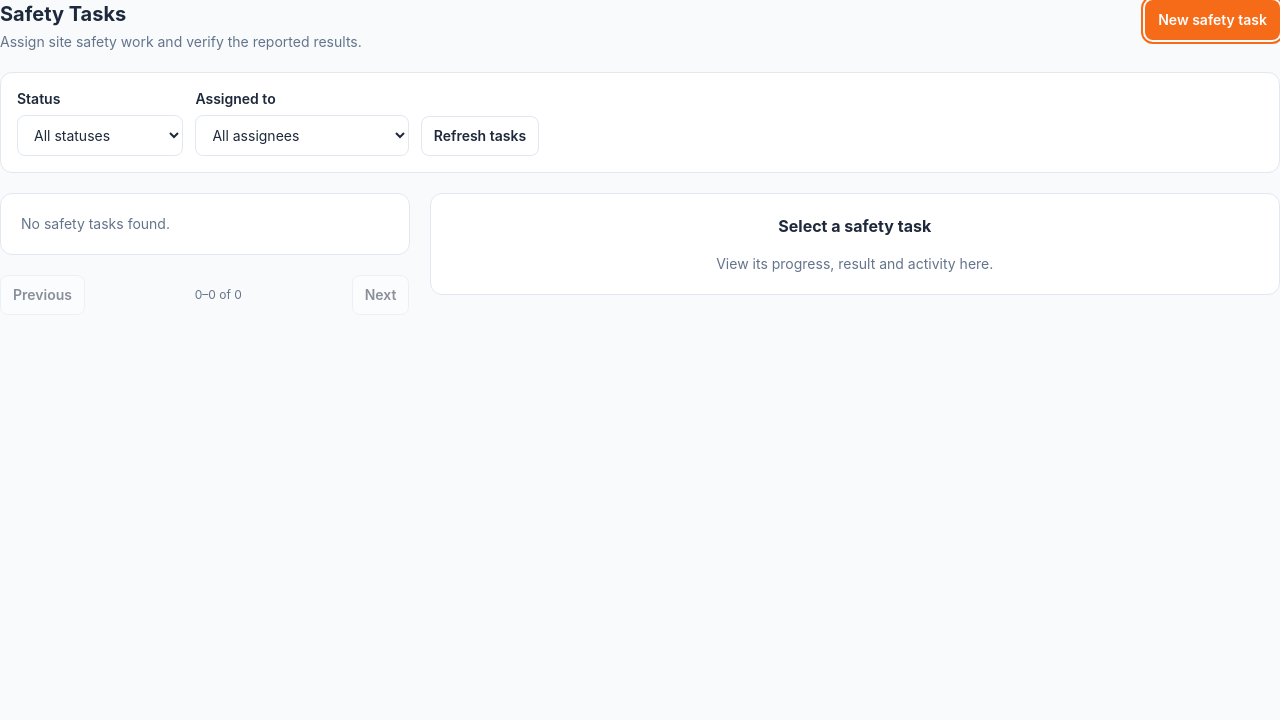
Test: Task creation opens on demand and Cancel returns focus without losing the list
Expected: the text "No safety tasks found." is shown, [0,193,410,255]
Expected: the field labelled "Task description" is not shown
Click the button "New safety task".
click(1213, 20)  # box [1145,0,1279,40]
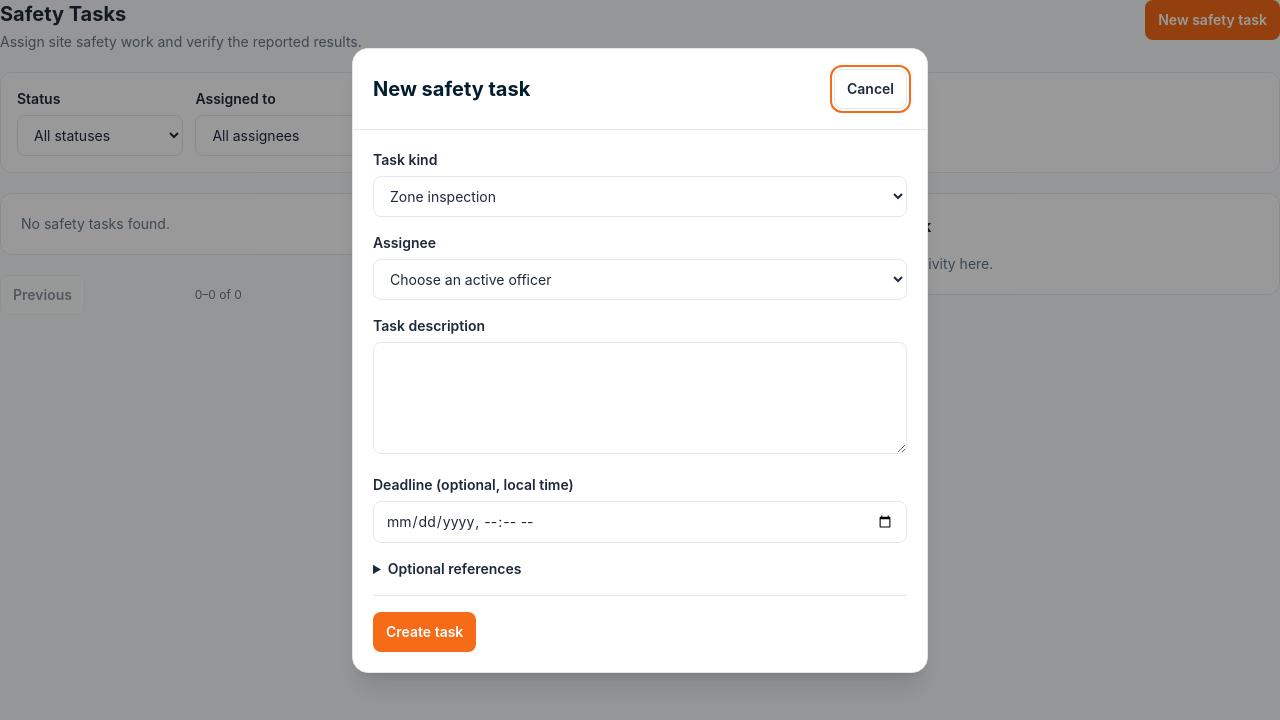
Result: the dialog "New safety task" is shown at [352,48,928,672]
Click the button "Cancel".
click(870, 88)  # box [834,68,907,108]
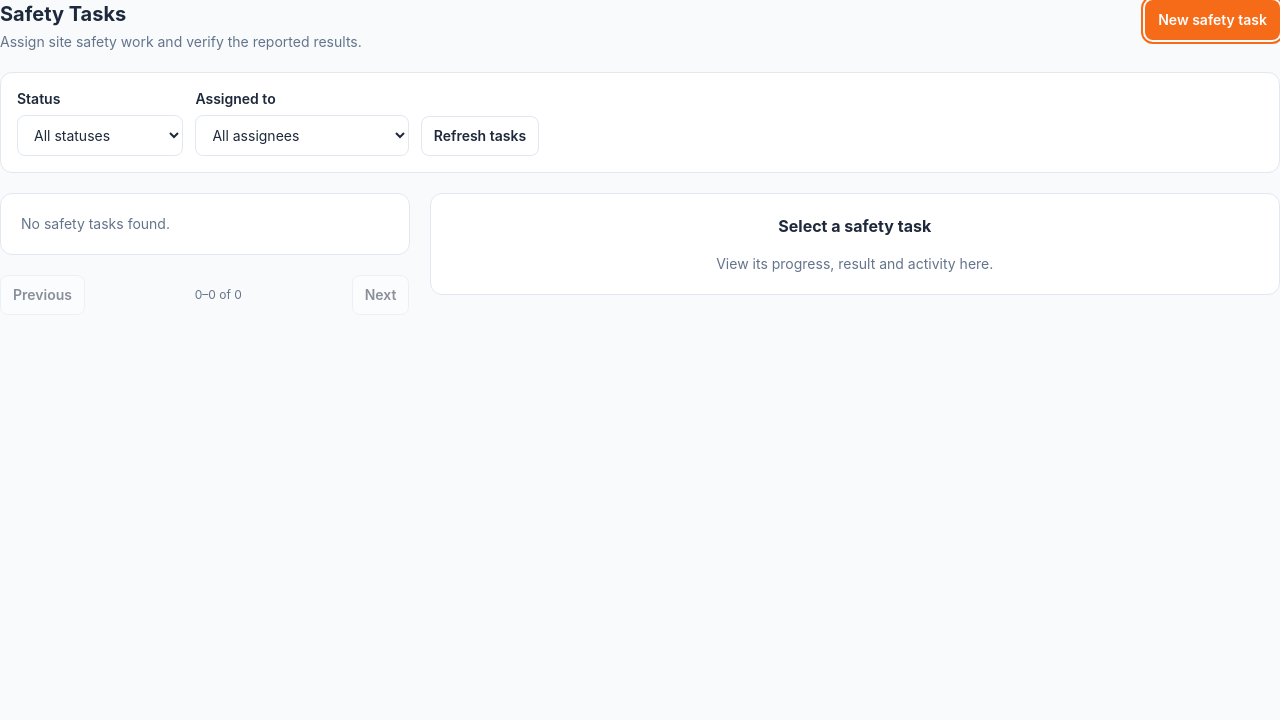
Expected: the text "No safety tasks found." is shown, [0,193,410,255]
Result: the dialog is gone
